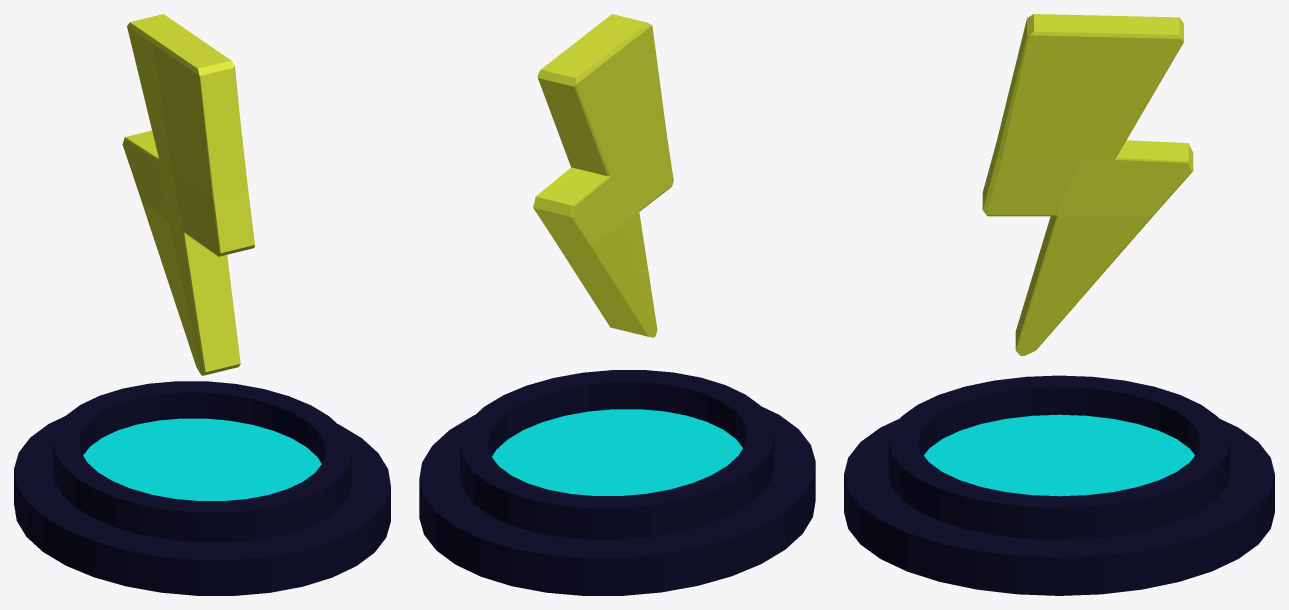
The model's file is Rayo.fbx.
The picture shows the model from 3 angles, left to right: view 1: azimuth 30°, elevation 25°; view 2: azimuth 150°, elevation 25°; view 3: azimuth 270°, elevation 25°; orthographic projection. The views are drawn at different scales.
Parts seen in each view (by area): view 1: Base, Rayo; view 2: Base, Rayo; view 3: Base, Rayo.
Part boxes in pixels (x1,y1,x2,y2): Base: [14, 381, 390, 595]; Rayo: [122, 14, 254, 375]; Base: [419, 370, 815, 595]; Rayo: [533, 14, 673, 337]; Base: [844, 375, 1274, 595]; Rayo: [982, 14, 1193, 355].
Bounding box in the file's own units: 363 × 498 × 397.
